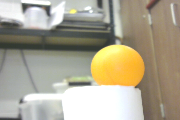PingPongBall: (91, 45, 145, 89)
